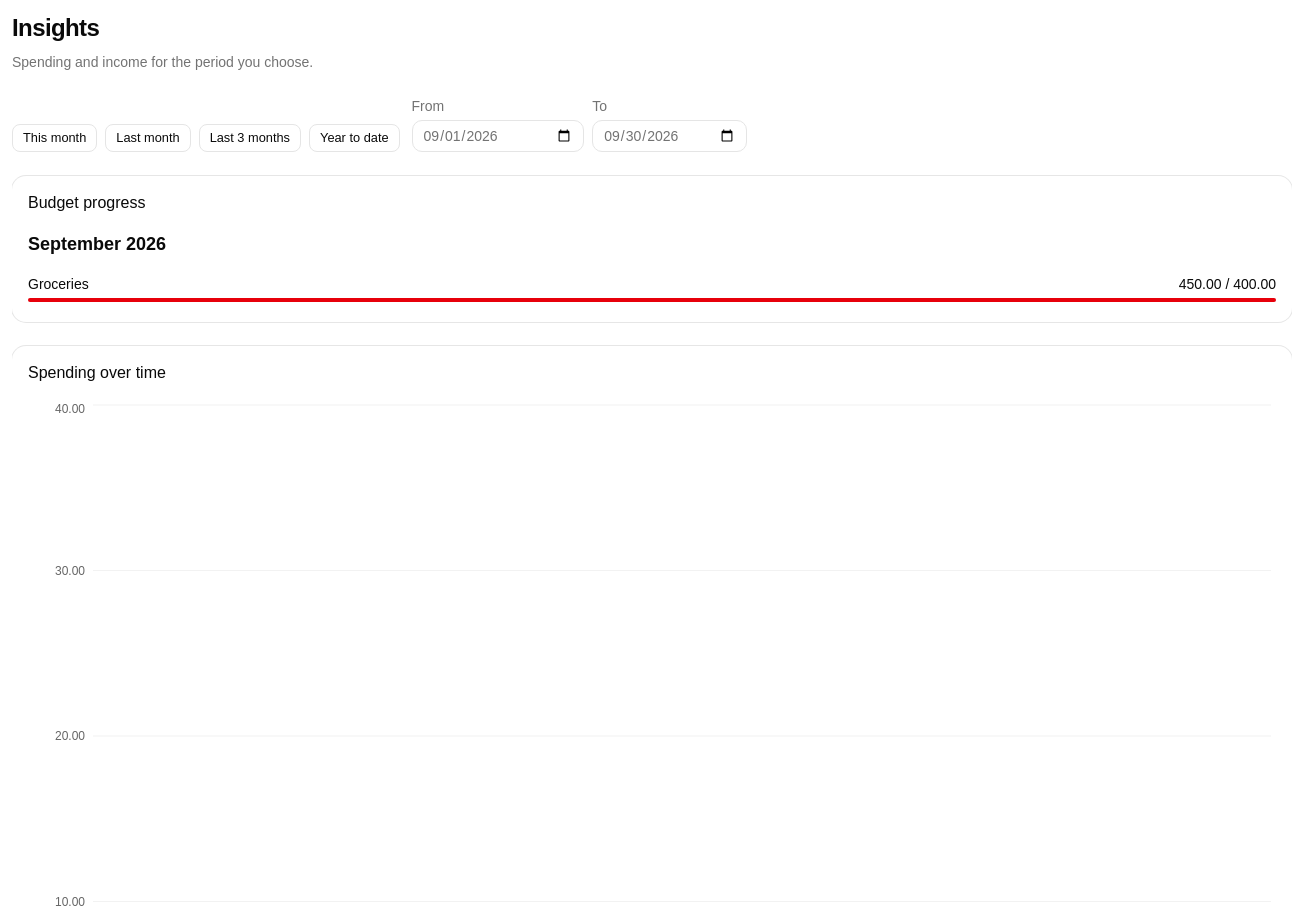
Test: InsightsPage › shows empty state for periods with no data
The image size is (1292, 912).
Type "2030-01-01" into the date field labelled "From".
click(498, 136); type("2030-01-01")  # box [412,120,584,152]
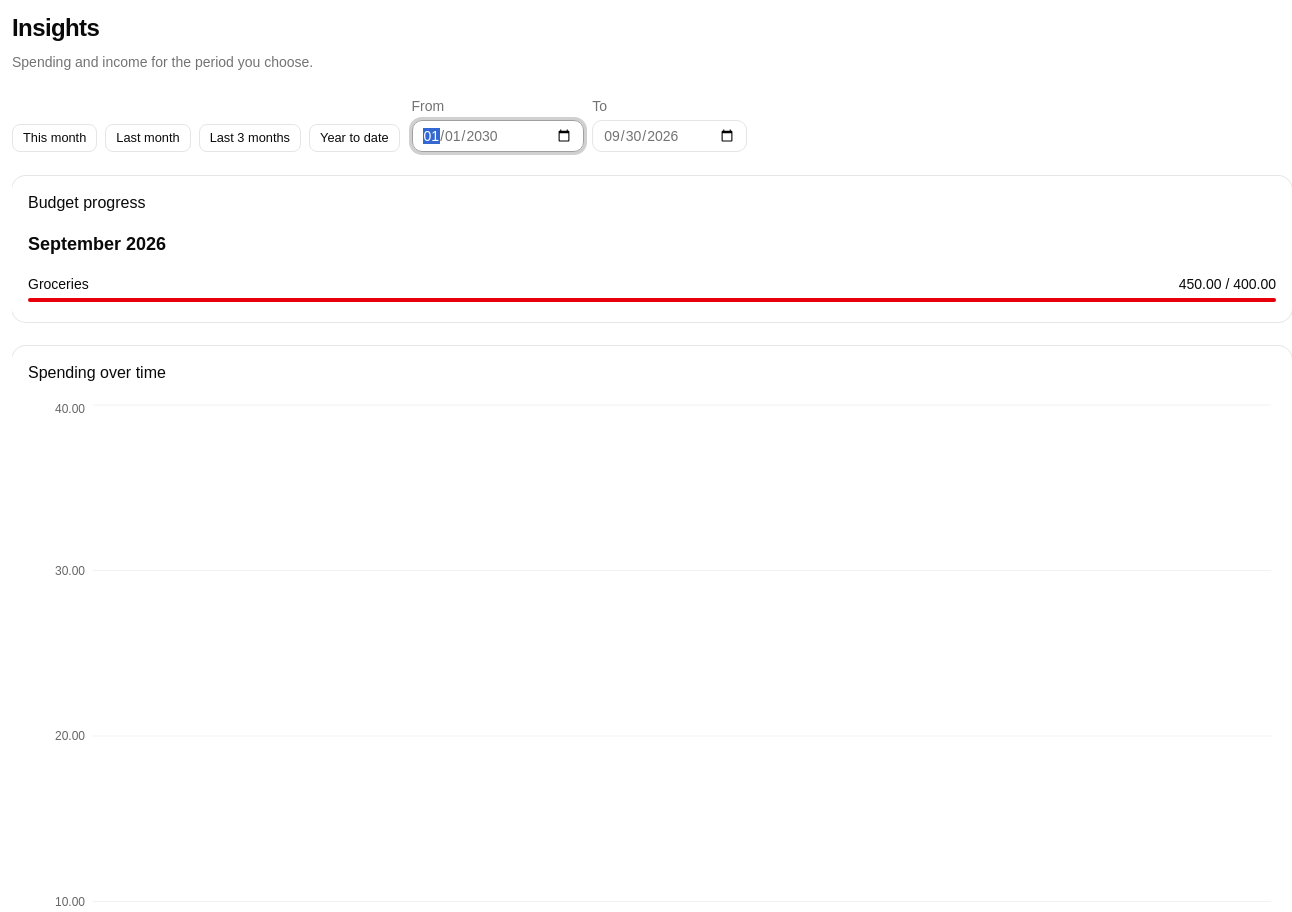
Type "2030-01-31" into the date field labelled "To".
click(670, 136); type("2030-01-31")  # box [592,120,747,152]
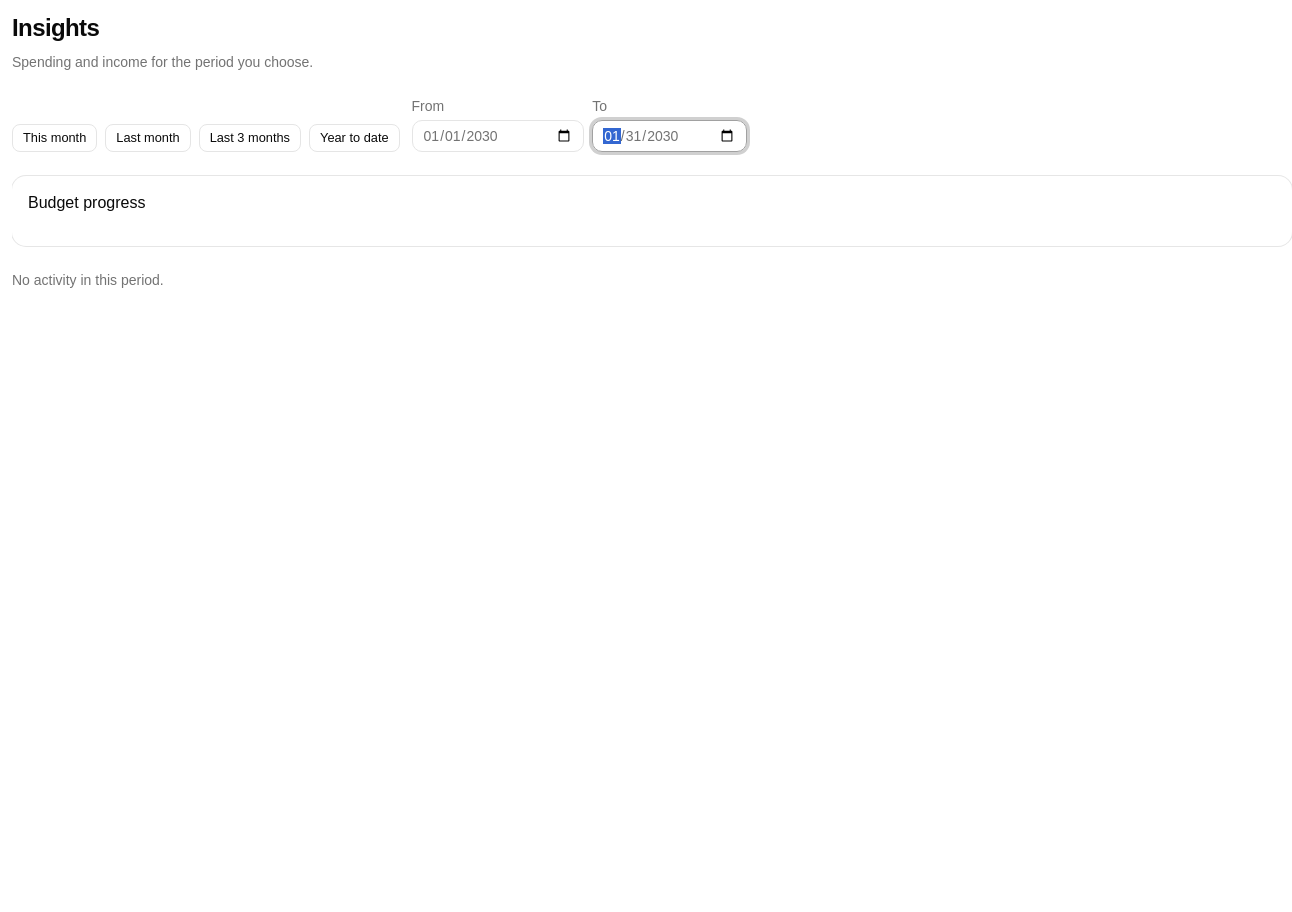
Expected: the text with test id "insights-empty" shows "No activity", [12,272,164,288]
